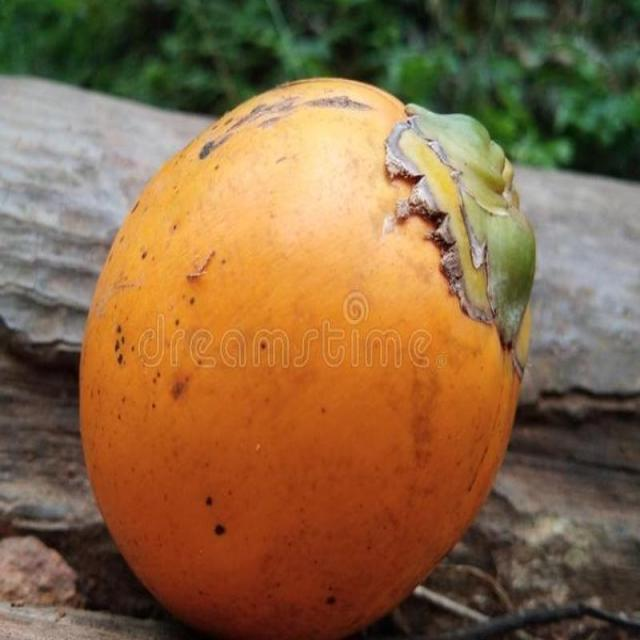good: (78, 79, 538, 639)
